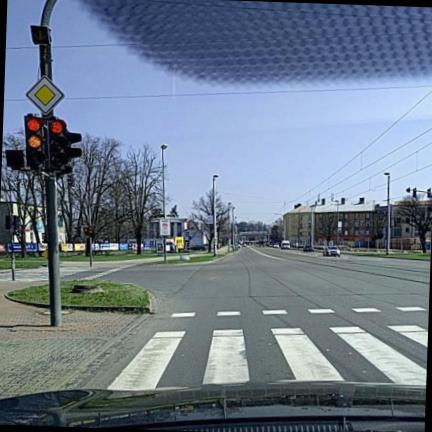Road: (85, 248, 429, 389)
